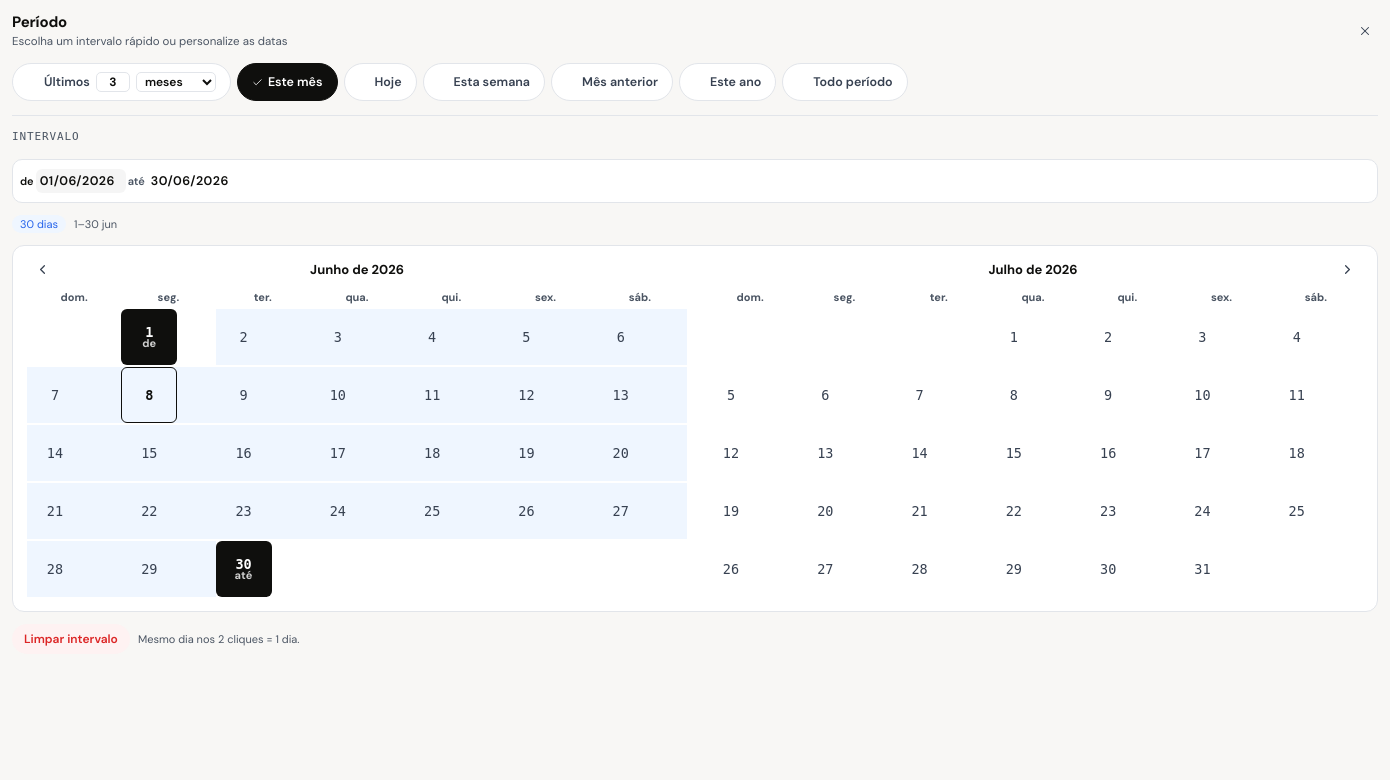
Test case: <PeriodPanel> › trocar a unidade prende o número ao teto DELA
The image size is (1390, 780).
Step 1. Replace the text in the field named "Quantidade da janela relativa" with "500" → (113, 82), box [96,72,130,92]
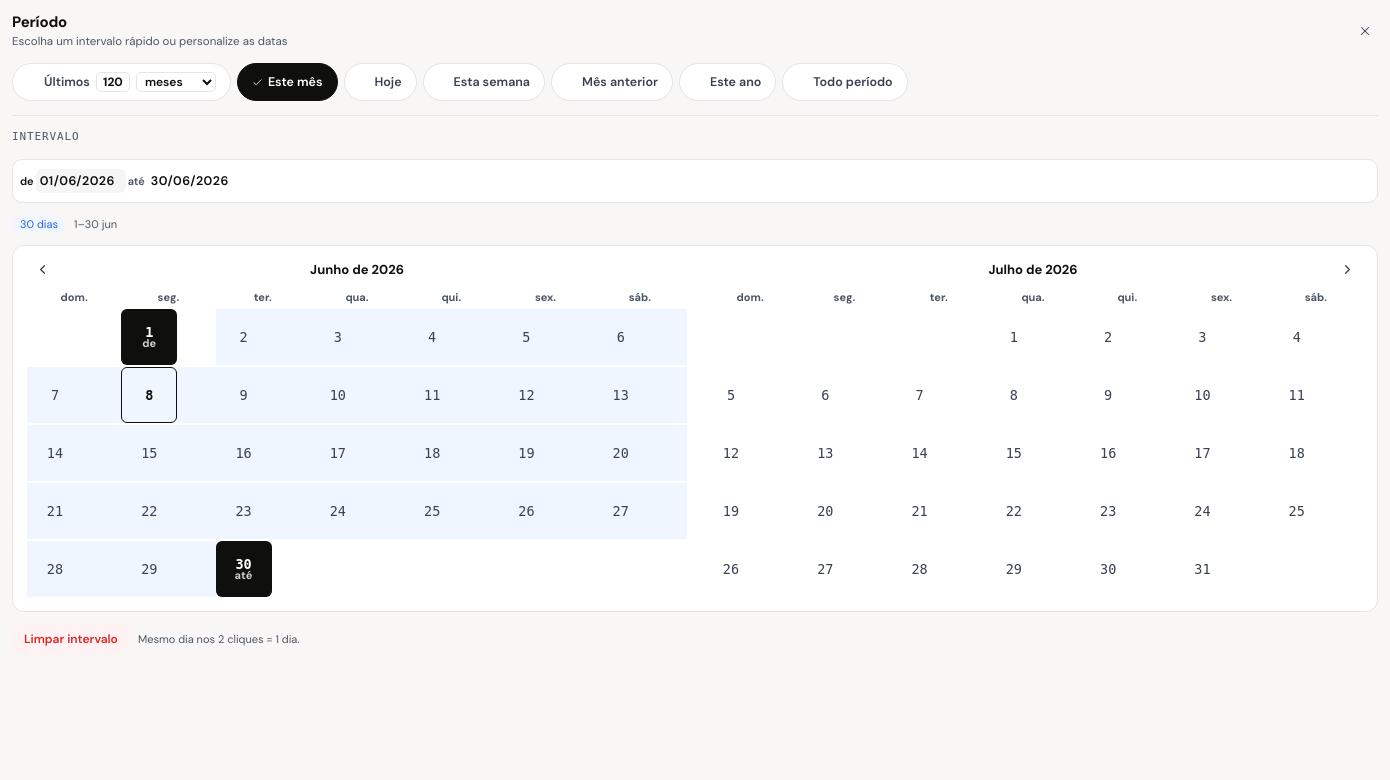
Step 2. Select "anos" in the dropdown named "Unidade da janela relativa" → (176, 82), box [136,72,216,92]
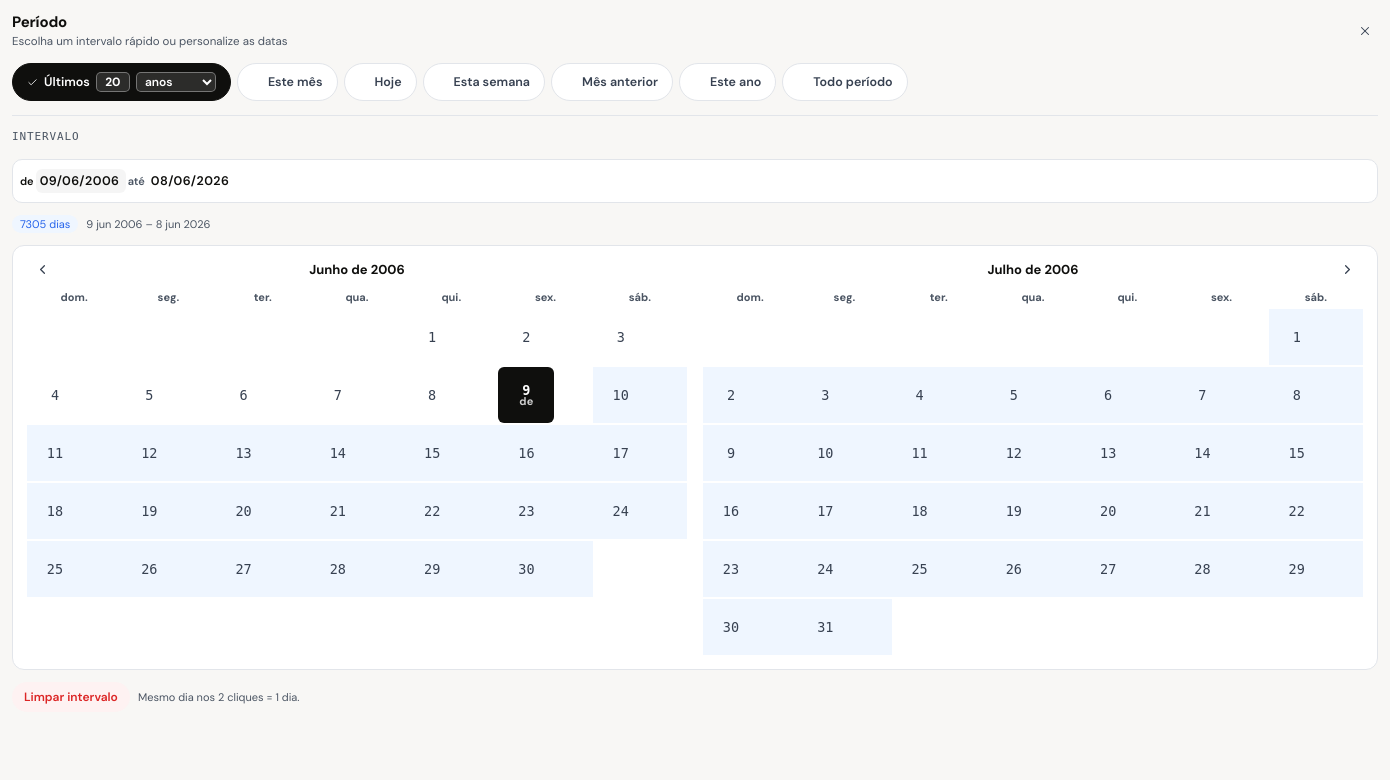
expect the field named "Quantidade da janela relativa" holds "20": met, box [96,72,130,92]
